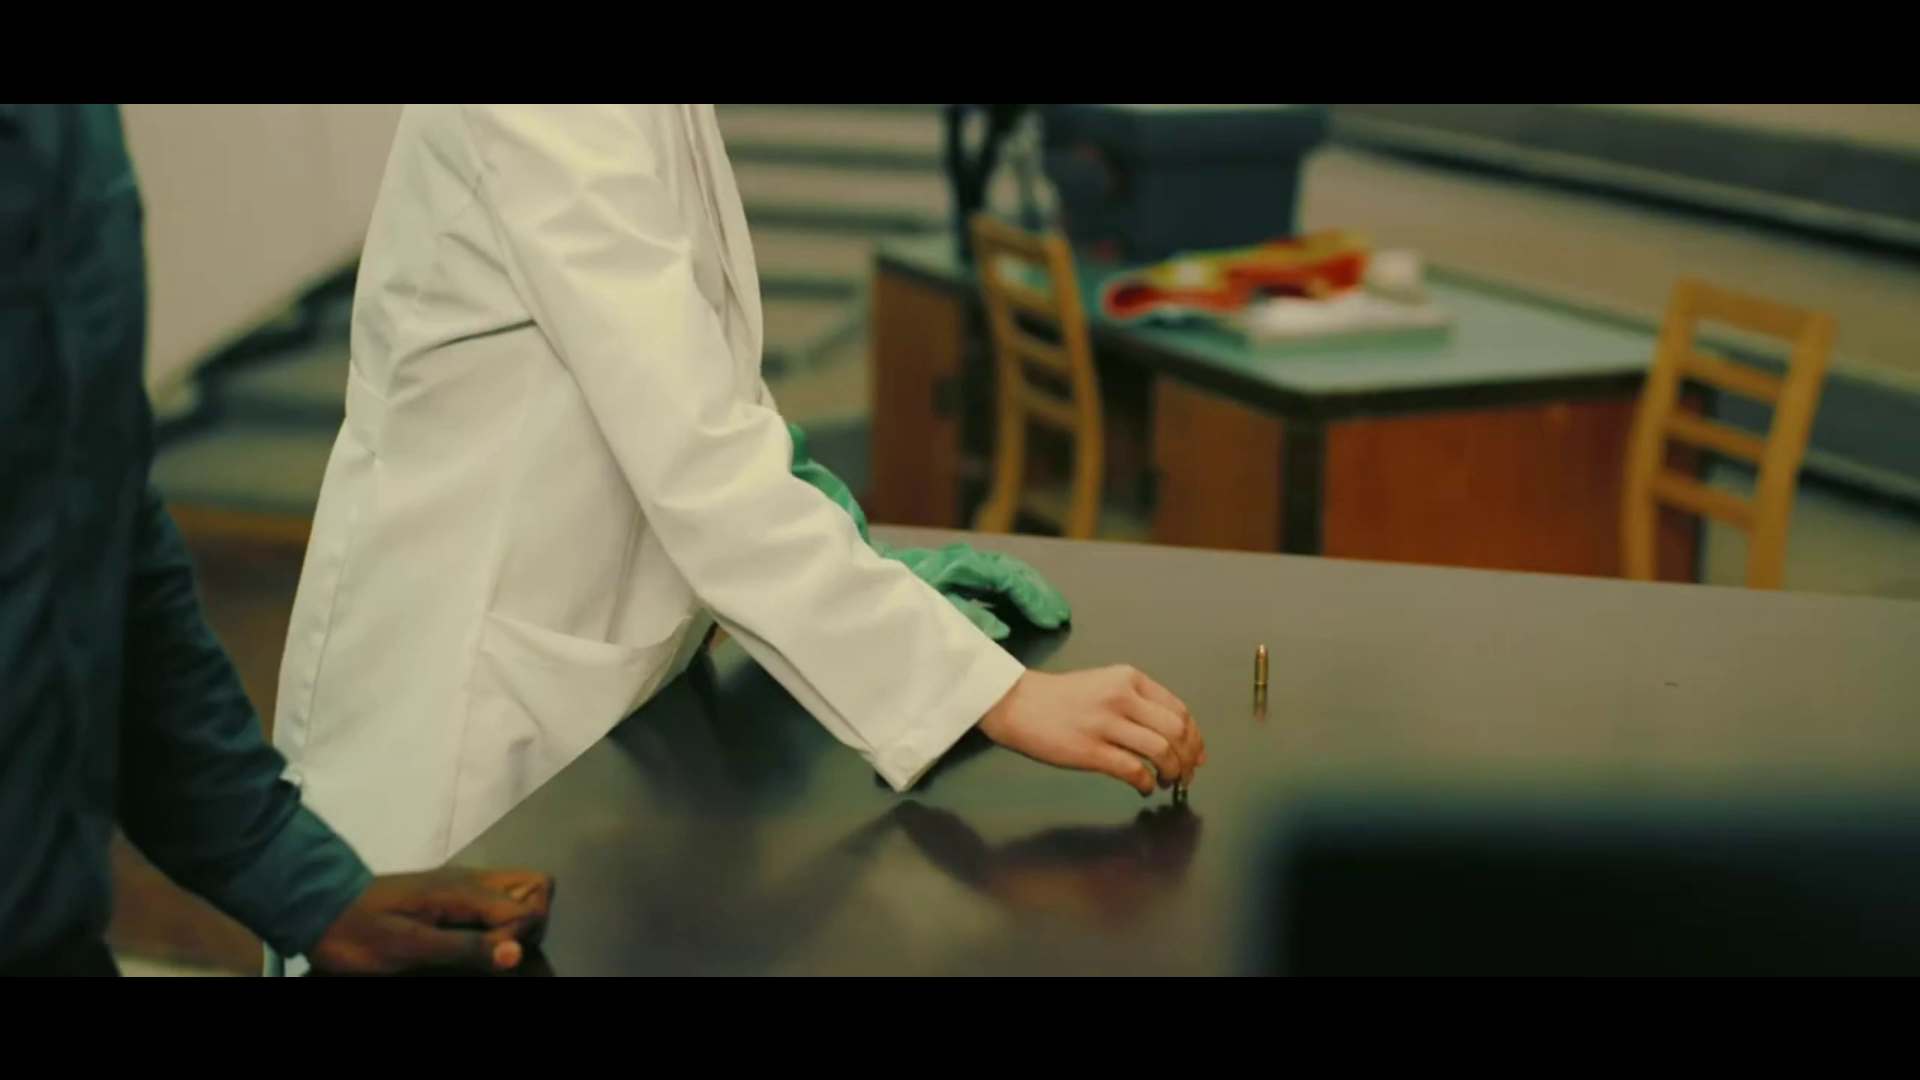Bullet: (1255, 641, 1269, 694)
